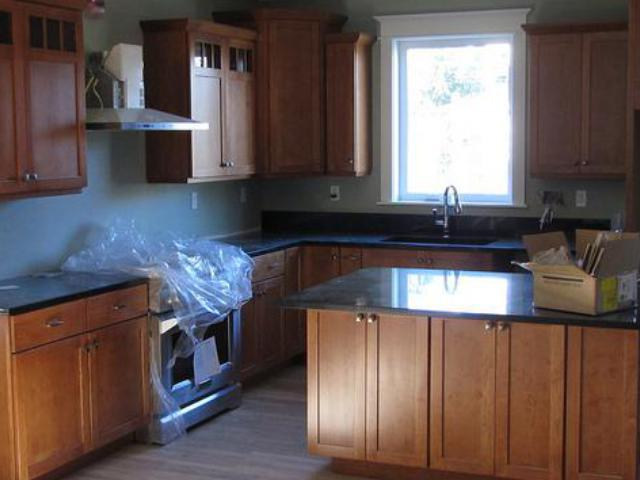Lavaplatos: (373, 181, 507, 250)
